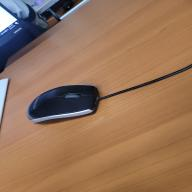mouse: (26, 83, 104, 125)
